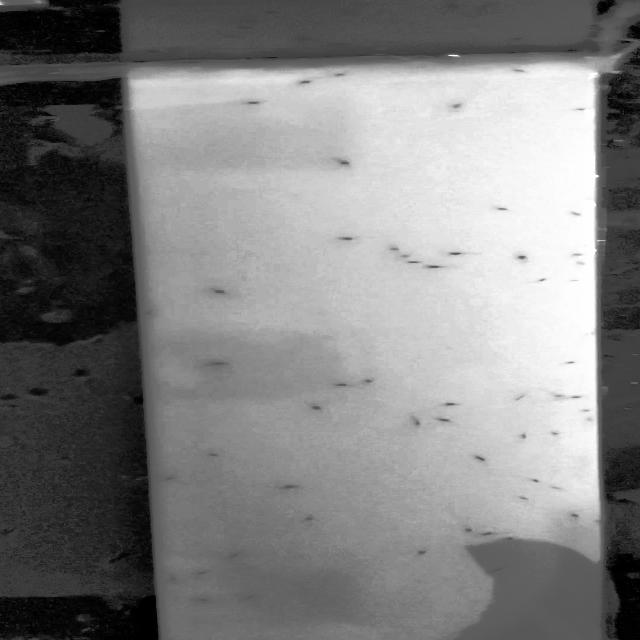shrimp: (231, 91, 279, 112), (297, 398, 333, 417), (438, 99, 474, 116), (504, 62, 538, 80), (440, 247, 476, 262), (560, 101, 598, 115), (328, 154, 359, 171), (269, 483, 308, 496), (186, 564, 217, 580), (134, 306, 164, 322), (290, 510, 322, 525), (232, 592, 264, 606), (547, 480, 574, 496), (428, 413, 461, 426), (225, 548, 250, 565), (290, 78, 322, 91), (565, 206, 591, 222), (330, 67, 354, 84), (200, 449, 229, 463), (508, 487, 531, 504), (438, 397, 463, 412), (356, 376, 382, 390), (408, 548, 438, 560), (159, 574, 191, 585), (488, 205, 519, 216), (505, 388, 527, 403), (186, 593, 216, 604), (336, 232, 361, 245), (562, 357, 585, 371), (575, 415, 598, 429), (202, 358, 228, 370), (508, 431, 536, 442), (153, 473, 185, 482), (205, 287, 231, 298), (466, 453, 488, 466), (501, 532, 520, 547), (547, 390, 570, 402), (486, 561, 502, 578), (565, 390, 589, 401), (562, 509, 580, 523), (512, 253, 534, 264), (329, 381, 353, 391), (411, 422, 435, 432), (580, 404, 600, 416), (388, 252, 411, 262), (474, 527, 493, 539), (404, 257, 426, 267), (530, 276, 552, 286), (546, 428, 568, 438), (526, 472, 539, 488), (428, 262, 448, 272), (382, 246, 405, 254), (460, 524, 477, 534), (565, 276, 584, 283)
